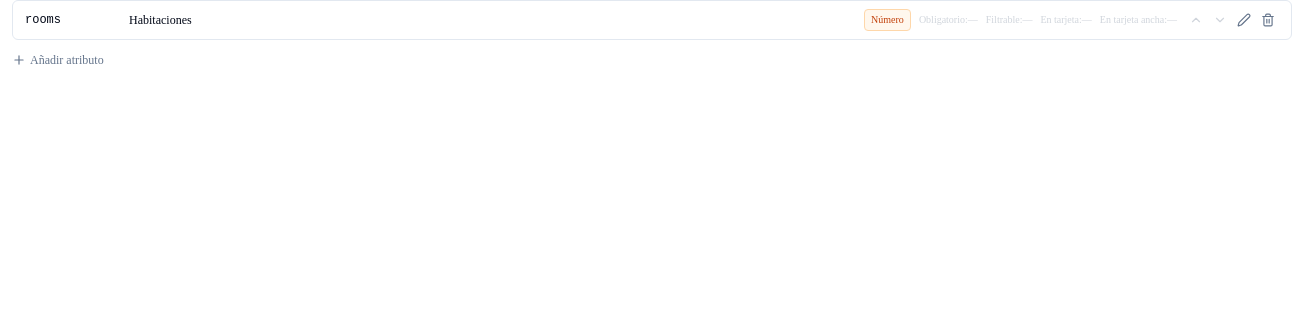
Test: AttributeSchemaEditor — showLabel / showUnit › atributo SIN unidad sin configurar: showLabel marcado, showUnit no se muestra (no hay unidad)
The width and height of the screenshot is (1292, 314).
Click the button with test id "edit-attr-rooms" at (1244, 20), box [1233, 9, 1255, 31]
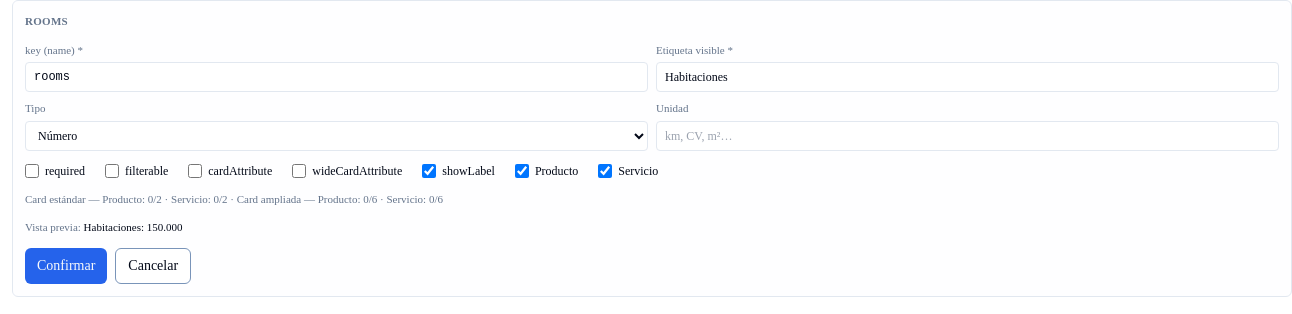
Result: the checkbox with test id "show-label-checkbox" is checked at [422, 164, 436, 178]
Result: the element with test id "attr-preview" shows "Habitaciones: 150.000" at [84, 221, 183, 233]
